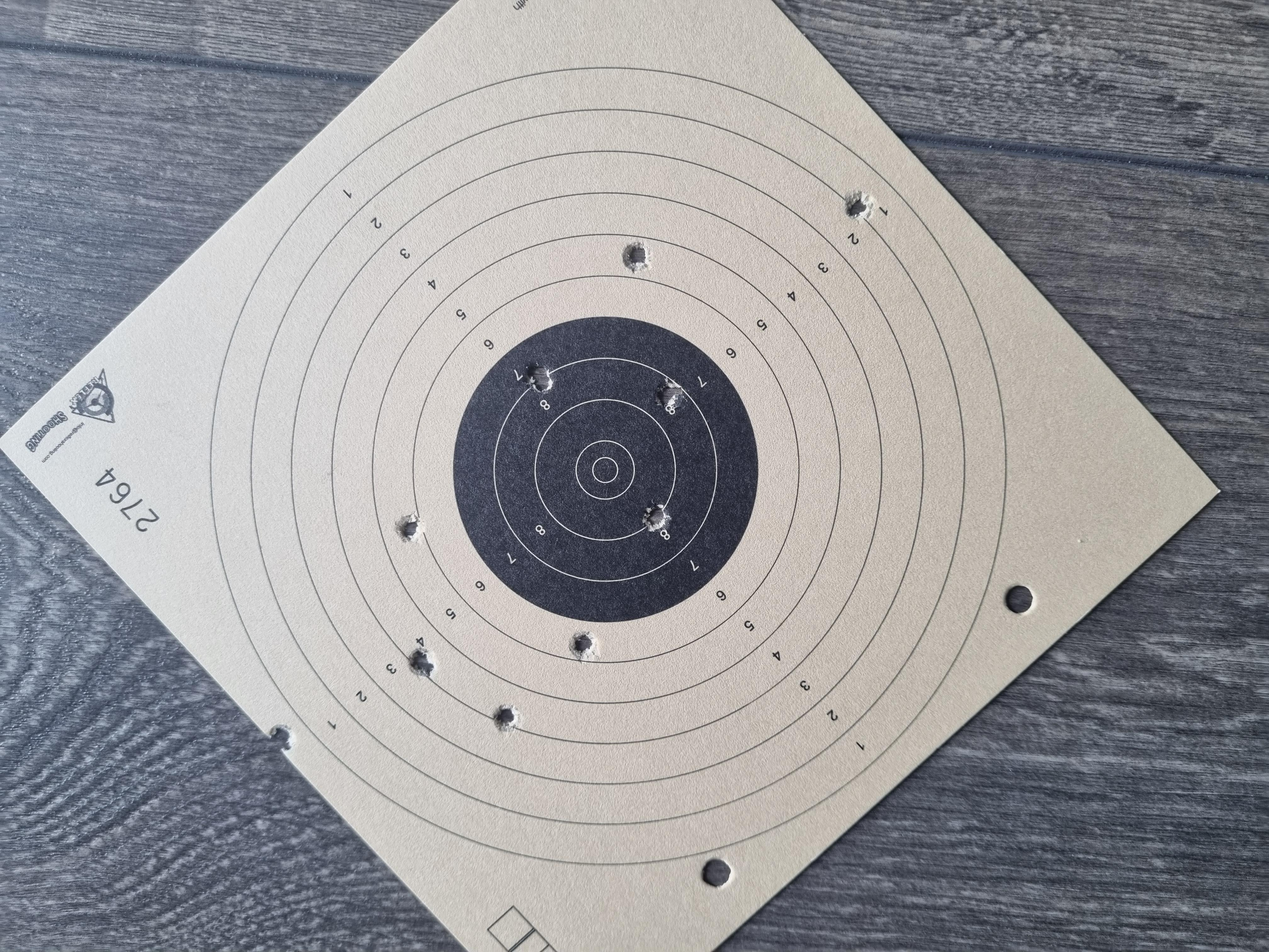hole: (723, 491, 765, 514), (384, 426, 427, 447), (904, 466, 946, 487), (543, 297, 585, 316), (977, 633, 1014, 654), (293, 370, 331, 390), (560, 481, 596, 502), (266, 202, 304, 221), (367, 306, 404, 325), (755, 393, 782, 413), (743, 396, 765, 415)
